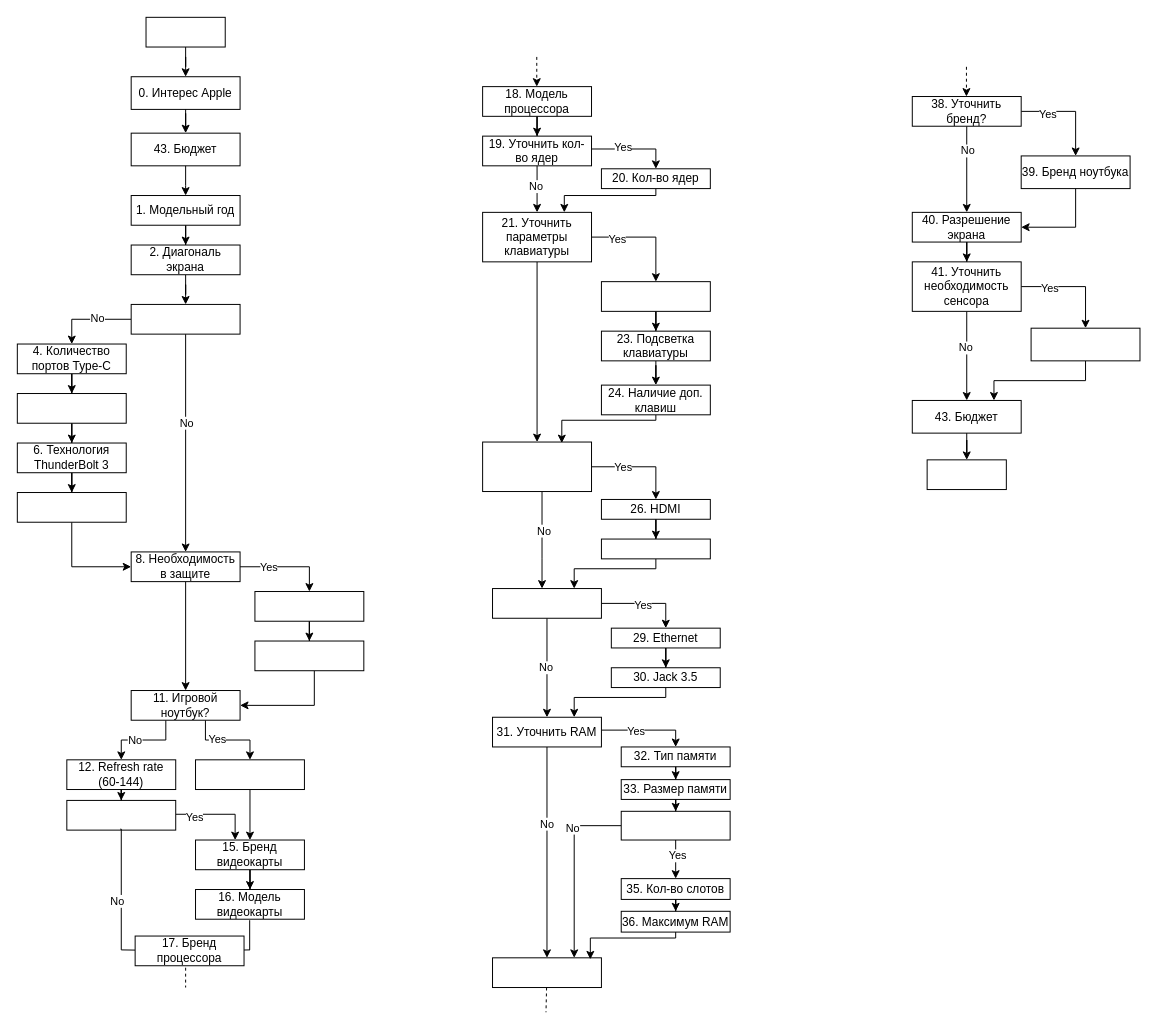
This 1157x1031 diagram has some shape labels left out. The shapes that lost their labels are listed below. From the top down, each one's box as (x1, y1, x2, y2) in pixels, then its label:
(145, 16, 225, 47): Start
(600, 281, 710, 311): 22. Тип клавиатуры
(130, 303, 240, 334): 3. Необходимость в Type-C
(1030, 327, 1140, 361): 42. Наличие сенсора
(16, 393, 126, 423): 5. Зарядка через Type-C
(482, 441, 592, 492): 25. Вывод на внешний экран
(926, 459, 1006, 490): End
(16, 492, 126, 522): 7. Технология ThunderBolt 4
(600, 538, 710, 559): 27. Type-C
(254, 591, 364, 621): 9. Технология Touch ID
(492, 588, 601, 618): 28. Подключение внешних устр-в
(254, 640, 364, 671): 10. Технология Face Unlock
(195, 759, 304, 790): 13. Refresh rate (120-480)
(66, 799, 176, 830): 14. Уточнить видеокарту
(620, 810, 730, 840): 34. Возможность расширения
(492, 957, 601, 988): 37. Наличие UEFI
